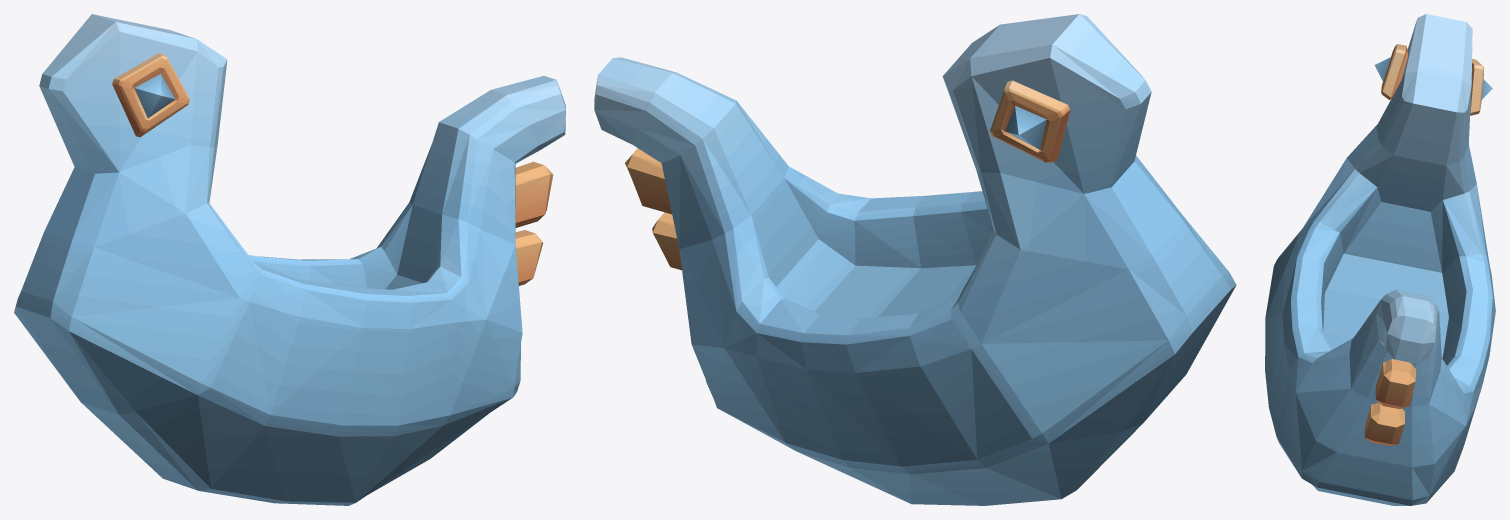
The model's file is CharSkyKid_Prop_LoveBoat.glb.
3 views of the same model, side by side, from view 1: azimuth 30°, elevation 25°; view 2: azimuth 150°, elevation 25°; view 3: azimuth 270°, elevation 25° (orthographic). The views are drawn at different scales.
Visible parts, largest first — view 1: CharSkyKid_Prop_LoveBoat; view 2: CharSkyKid_Prop_LoveBoat; view 3: CharSkyKid_Prop_LoveBoat.
Part boxes in pixels (<box>): CharSkyKid_Prop_LoveBoat: <box>14,14,565,505</box>; CharSkyKid_Prop_LoveBoat: <box>594,14,1236,505</box>; CharSkyKid_Prop_LoveBoat: <box>1265,14,1495,505</box>.
Bounding box in the file's own units: 4.47 × 3.93 × 2.
1 material, 1 textured.
